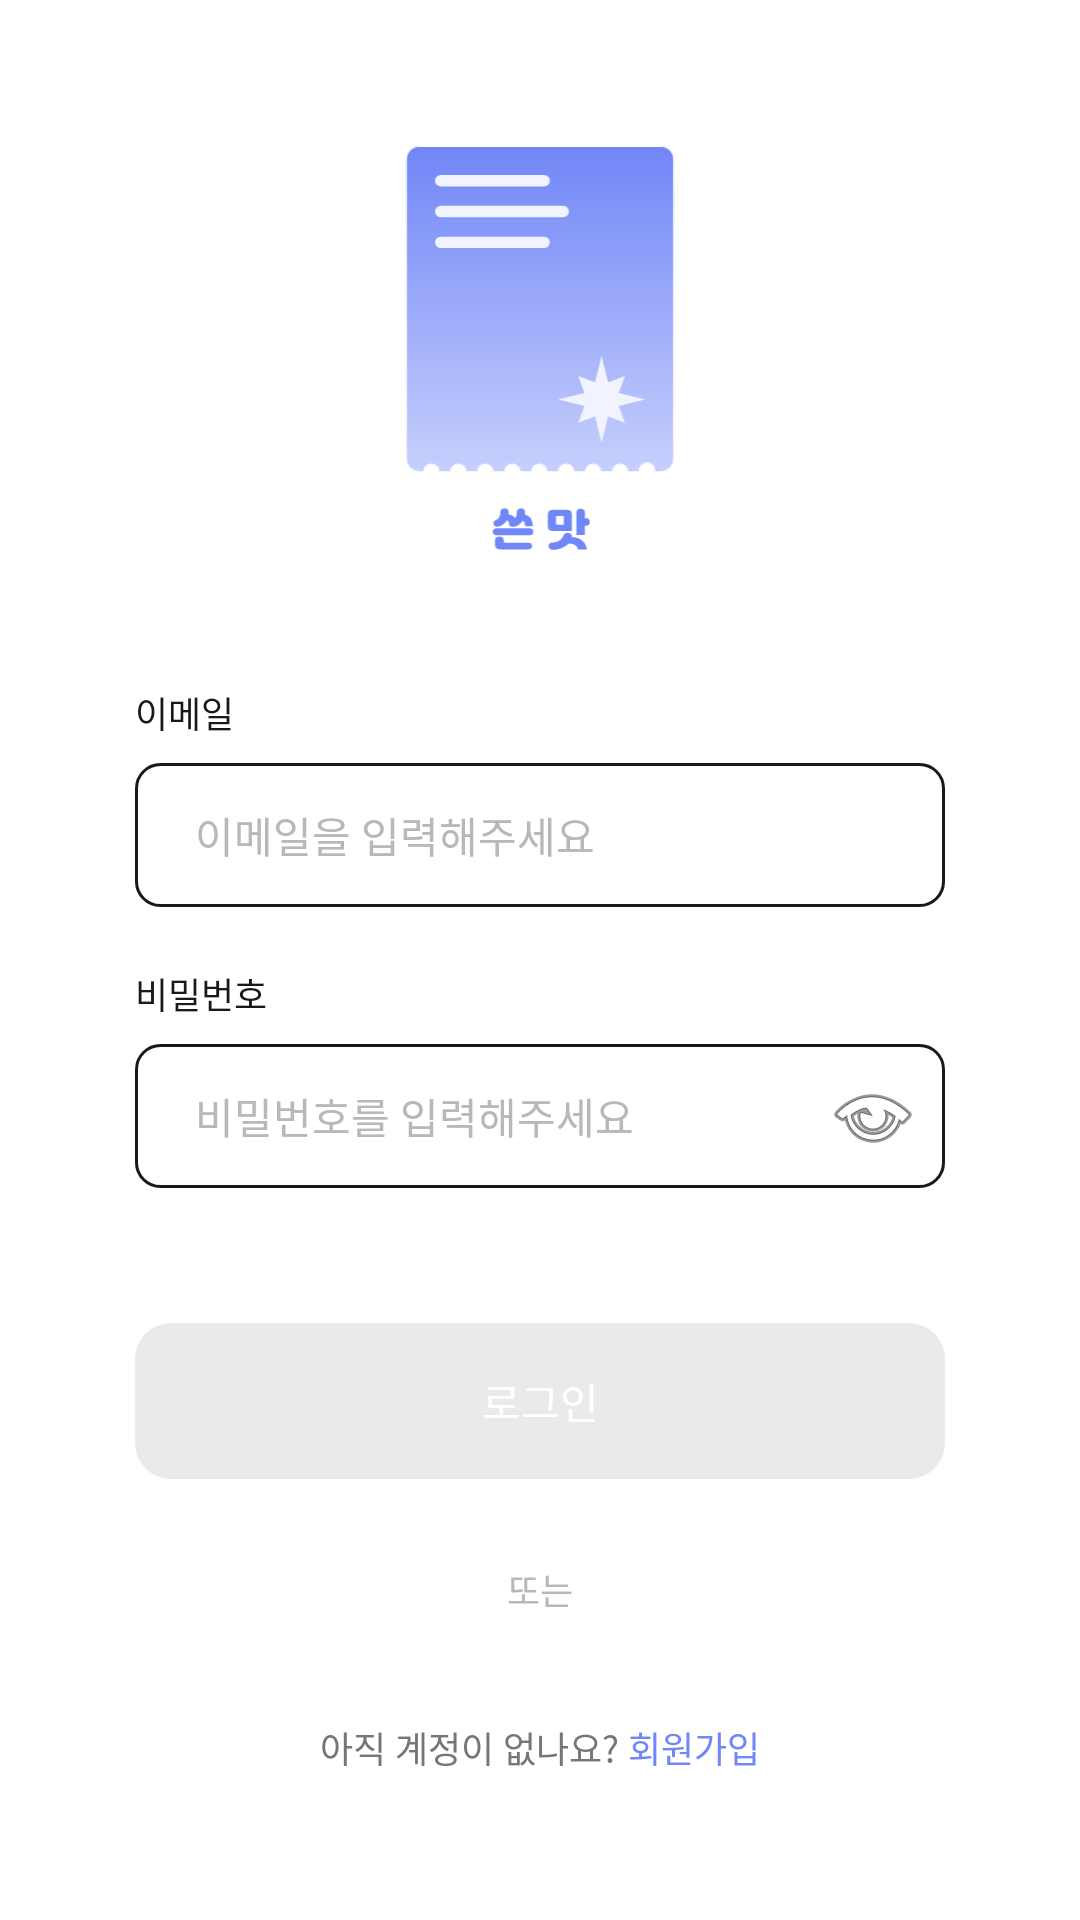

Where to tap for icons on this 1080px×1920px app screen, as (x=x, y=y):
비밀번호 보기: (x=873, y=1118)
